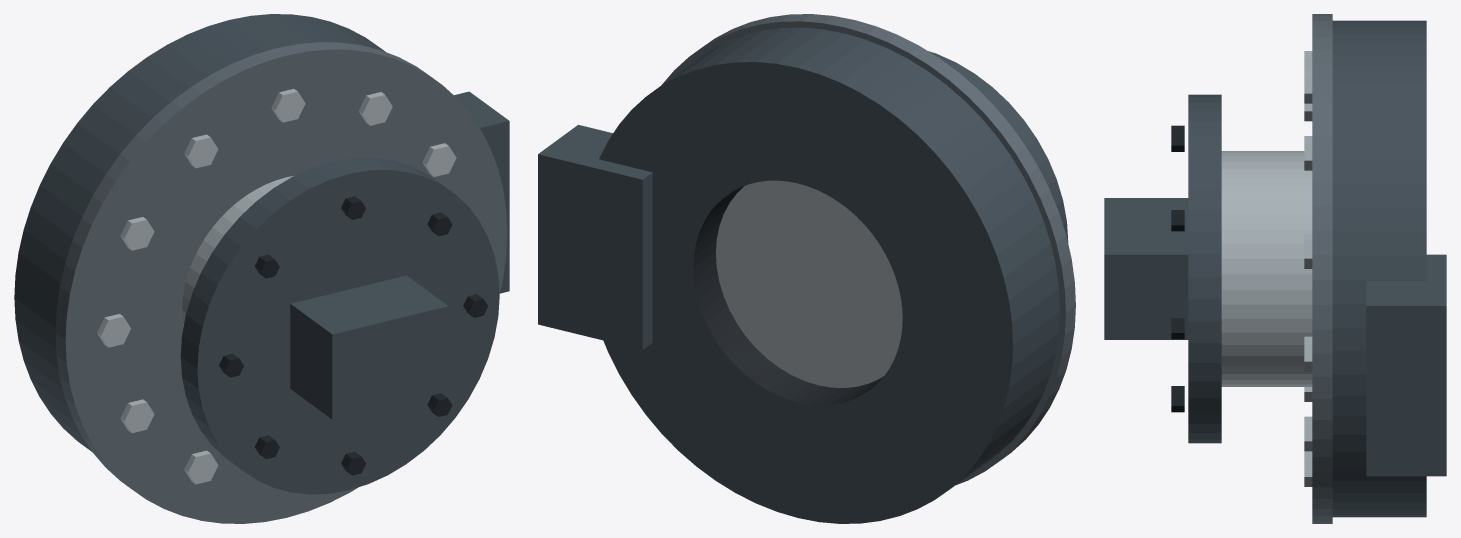
Rendered from Mechanics.obj.
3 views of the same model, side by side, from view 1: azimuth 30°, elevation 25°; view 2: azimuth 150°, elevation 25°; view 3: azimuth 270°, elevation 25° (orthographic).
Parts seen in each view (by area): view 1: FSJointBase, FSJointTip; view 2: FSJointBase, FSJointTip; view 3: FSJointBase, FSJointTip.
Boxes of the visible parts, x1=… form: FSJointBase: x1=14, y1=14, x2=509, y2=523; FSJointTip: x1=180, y1=157, x2=499, y2=494; FSJointBase: x1=538, y1=14, x2=1075, y2=523; FSJointTip: x1=716, y1=51, x2=1068, y2=387; FSJointBase: x1=1304, y1=14, x2=1446, y2=523; FSJointTip: x1=1104, y1=94, x2=1312, y2=443.
Bounding box in the file's own units: 0.405 × 0.38 × 0.255.
